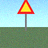sign: (17, 0, 34, 32)
